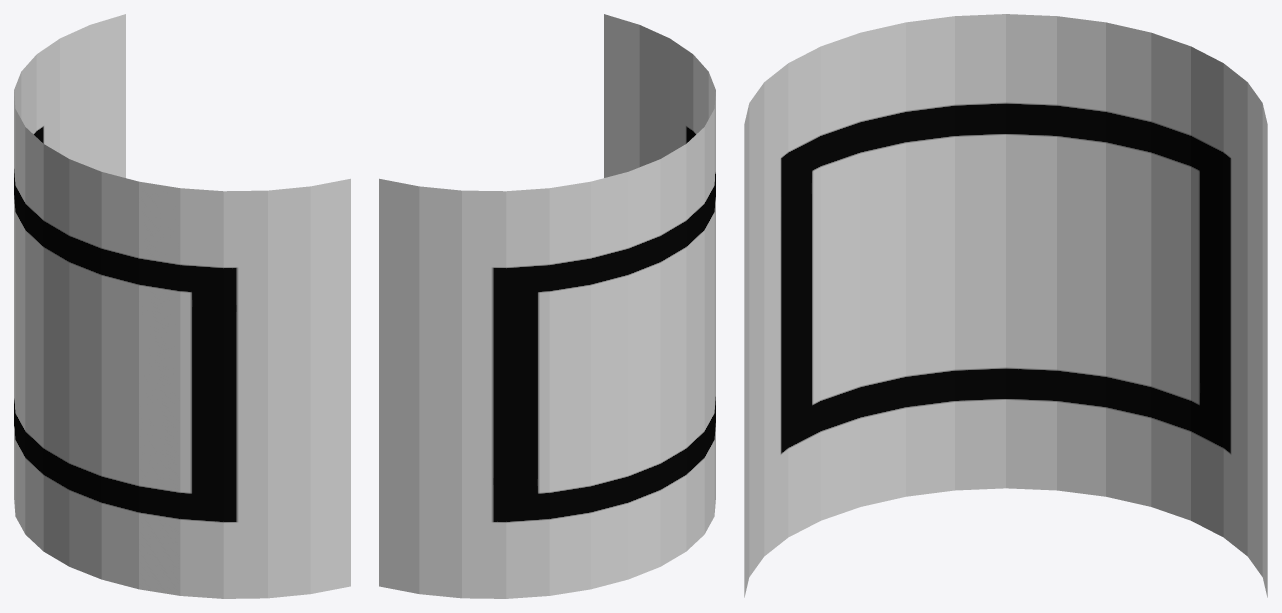
The model's file is plate01_curve.obj.
3 views of the same model, side by side, from view 1: azimuth 30°, elevation 25°; view 2: azimuth 150°, elevation 25°; view 3: azimuth 270°, elevation 25° (orthographic). The views are drawn at different scales.
Visible parts, largest first — view 1: Cylinder_Cylinder.001; view 2: Cylinder_Cylinder.001; view 3: Cylinder_Cylinder.001.
Boxes of the visible parts, x1,y1,x2,y2 form: Cylinder_Cylinder.001: (14,14,350,598); Cylinder_Cylinder.001: (379,14,715,598); Cylinder_Cylinder.001: (744,14,1267,597).
Size of the model in its own units: 10 by 20 by 20.
